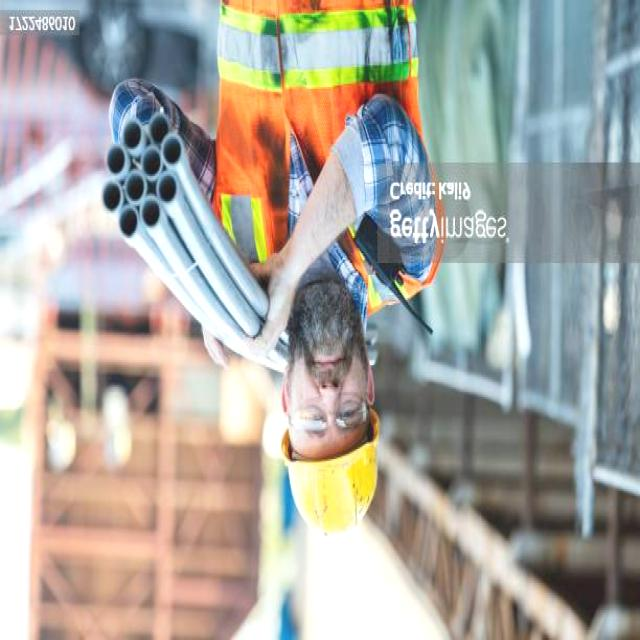Hard Hat: (276, 411, 384, 541)
Reflective Vest: (204, 1, 444, 324)
Safety Glasses: (286, 400, 378, 436)
